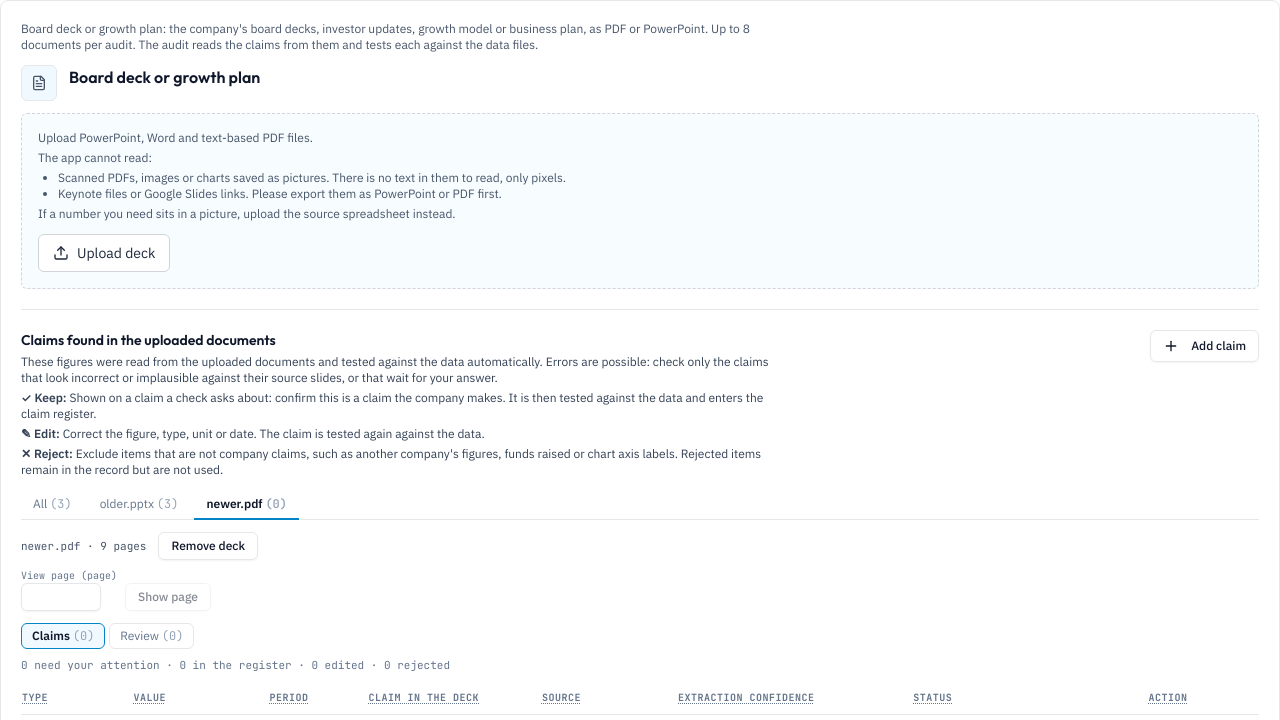
Test: a figure in another currency shows both figures, and a direction with no figure says so
Click the tab "All (3)" at (52, 505), box x1=21 y1=490 x2=84 y2=520
(page scrolled)
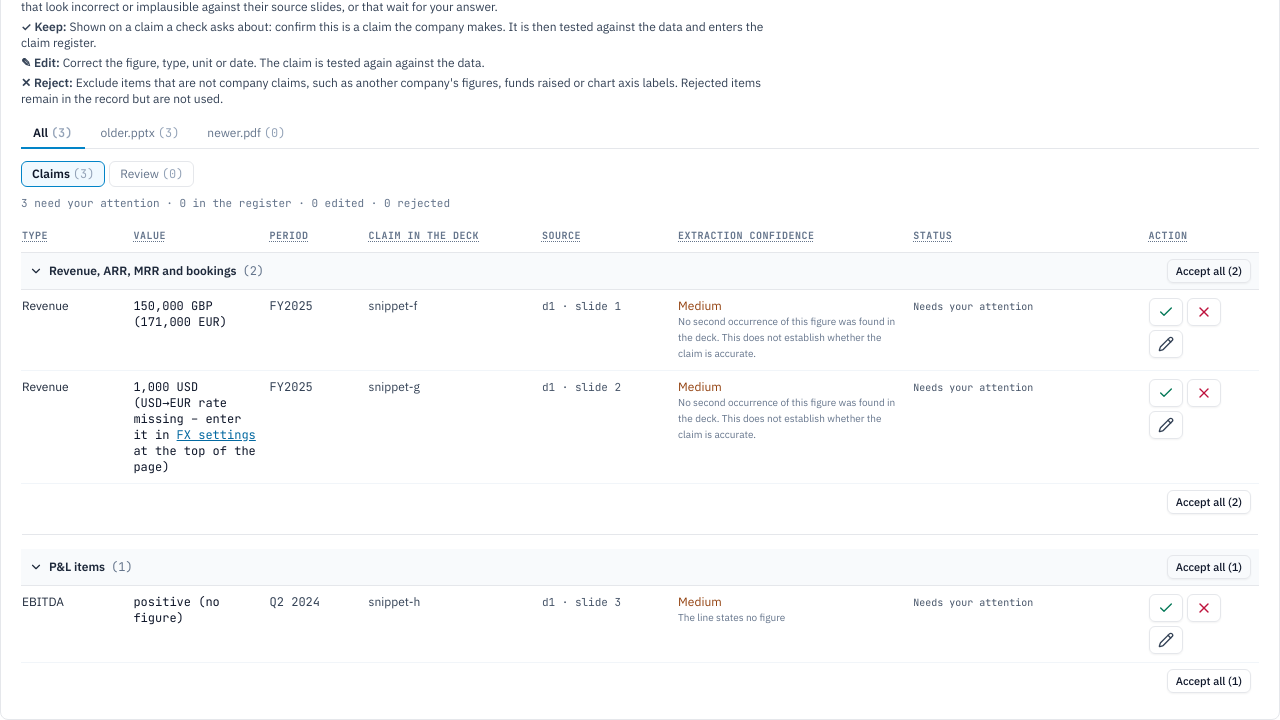
Now the cell "Q2 2024" is shown, box x1=269 y1=585 x2=368 y2=662
Now the text with test id "candidate-confidence-text" in the row of "EBITDA" reads "Medium", box x1=678 y1=594 x2=722 y2=608
